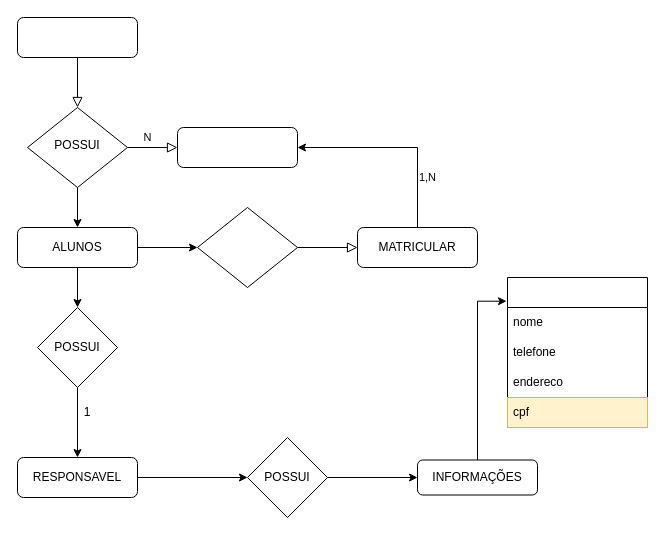
Some shapes in this 665 by 535 pixel diagram are drawn without their labels. The box of each missing label's shape, as (x1, y1, x2, y2) in pixels:
banco de dados: (506, 276, 648, 428)
CURSOS: (176, 126, 298, 168)
ESCOLA: (16, 16, 138, 58)
PODE: (196, 206, 298, 288)
